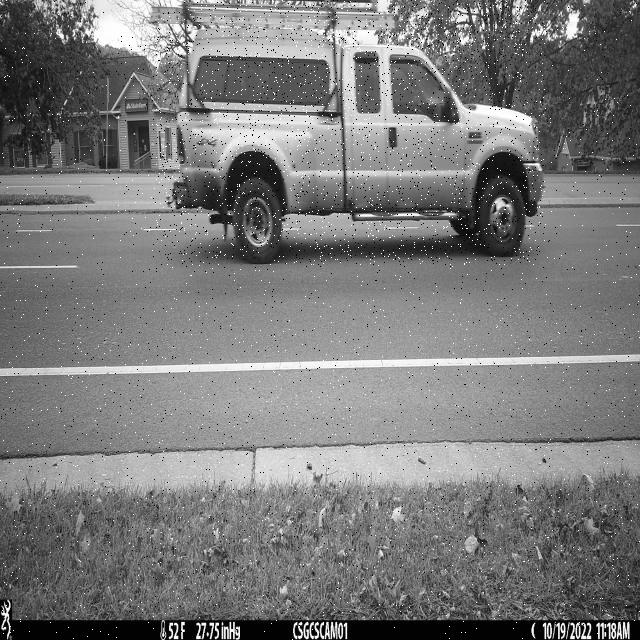Pickup- Utility: (156, 0, 545, 265)
